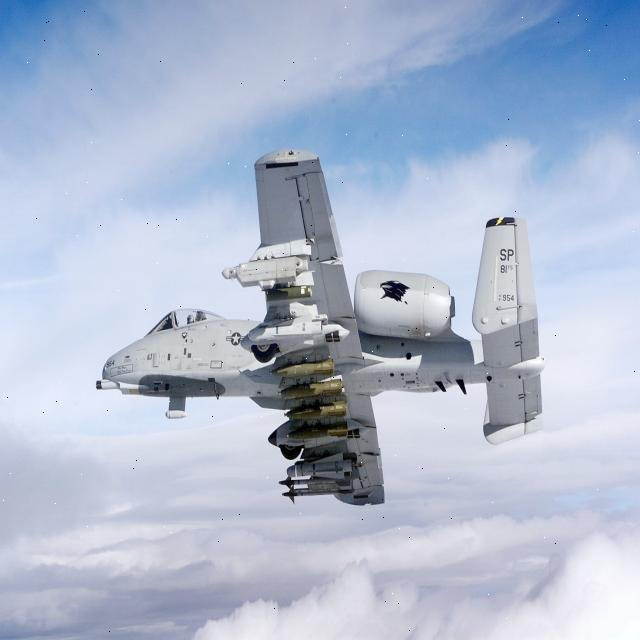A10: (89, 110, 609, 528)
